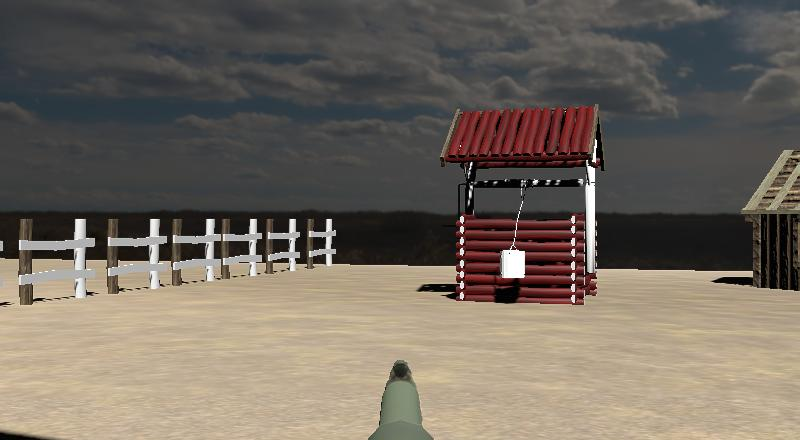House: (743, 147, 800, 293)
